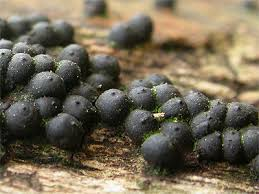pudricion radicular: (2, 17, 251, 182)
